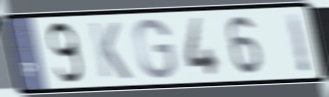4: (183, 15, 222, 79)
6: (225, 14, 265, 78)
9: (45, 20, 85, 85)
G: (133, 17, 178, 81)
I: (283, 10, 314, 77)
K: (87, 20, 134, 81)
